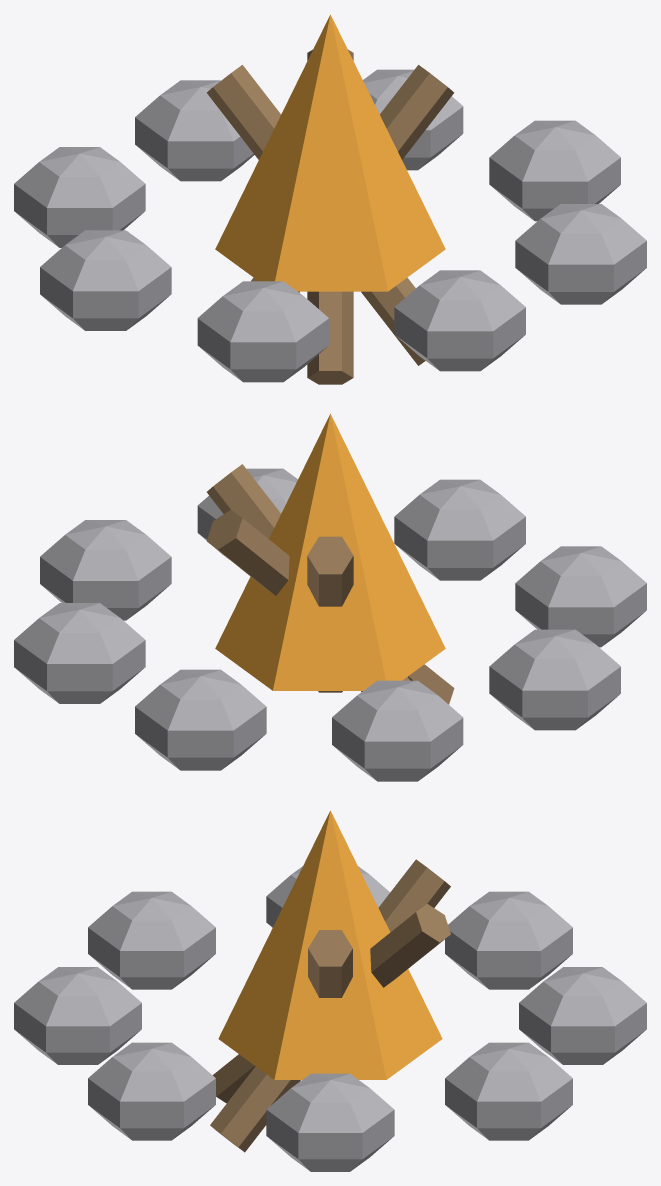
Rendered from campfire.glb.
The picture shows the model from 3 angles, top to bottom: view 1: azimuth 30°, elevation 25°; view 2: azimuth 150°, elevation 25°; view 3: azimuth 270°, elevation 25°; orthographic projection. The views are drawn at different scales.
Parts seen in each view (by area): view 1: FlameMesh, Sphere.005, Sphere.006, Sphere.007, Sphere.004, Sphere, Sphere.003, Sphere.002, Cylinder.002, Cylinder, Cylinder.001, Sphere.001; view 2: FlameMesh, Sphere.002, Sphere.003, Sphere.004, Sphere.006, Sphere.001, Sphere.005, Sphere, Cylinder.001, Cylinder.002, Cylinder, Sphere.007; view 3: FlameMesh, Sphere, Sphere.001, Sphere.007, Sphere.005, Sphere.002, Sphere.006, Sphere.003, Cylinder.002, Cylinder.001, Cylinder, Sphere.004.
Boxes of the visible parts, x1,y1,x2,y2 form: FlameMesh: [215, 14, 445, 291]; Sphere.005: [197, 281, 328, 382]; Sphere.006: [394, 270, 525, 371]; Sphere.007: [515, 204, 646, 304]; Sphere.004: [40, 230, 171, 330]; Sphere: [489, 120, 620, 221]; Sphere.003: [14, 147, 145, 247]; Sphere.002: [135, 80, 254, 181]; Cylinder.002: [206, 65, 425, 365]; Cylinder: [251, 65, 454, 292]; Cylinder.001: [307, 49, 353, 384]; Sphere.001: [363, 69, 463, 170]; FlameMesh: [215, 413, 445, 690]; Sphere.002: [135, 669, 266, 770]; Sphere.003: [332, 680, 463, 781]; Sphere.004: [489, 629, 620, 730]; Sphere.006: [394, 479, 525, 580]; Sphere.001: [14, 603, 145, 703]; Sphere.005: [515, 546, 646, 647]; Sphere: [40, 520, 171, 620]; Cylinder.001: [206, 510, 454, 704]; Cylinder.002: [307, 536, 353, 692]; Cylinder: [207, 464, 409, 691]; Sphere.007: [197, 468, 297, 558]; FlameMesh: [218, 810, 442, 1079]; Sphere: [266, 1073, 394, 1171]; Sphere.001: [445, 1042, 572, 1140]; Sphere.007: [88, 1042, 215, 1140]; Sphere.005: [88, 891, 215, 989]; Sphere.002: [519, 967, 646, 1064]; Sphere.006: [14, 967, 141, 1064]; Sphere.003: [445, 891, 572, 989]; Cylinder.002: [210, 859, 450, 1152]; Cylinder.001: [212, 904, 450, 1103]; Cylinder: [308, 930, 352, 997]; Sphere.004: [266, 866, 389, 927].
Bounding box in the file's own units: 1.1 × 0.6216 × 1.13.
